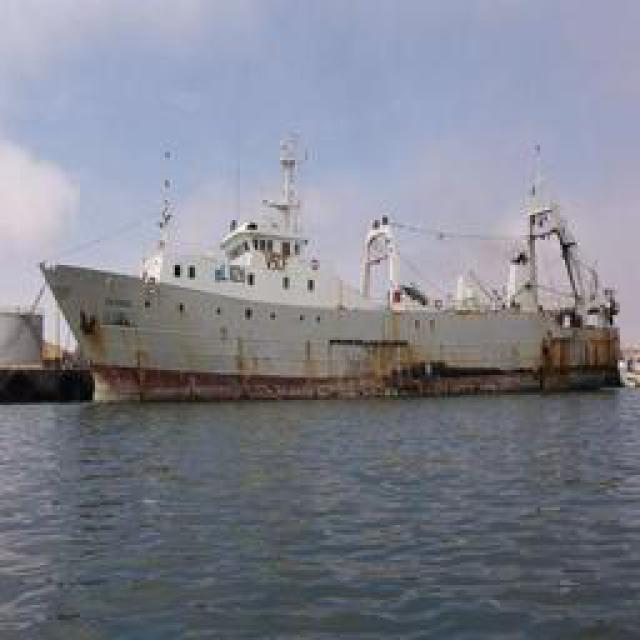Ship: (21, 124, 624, 397)
